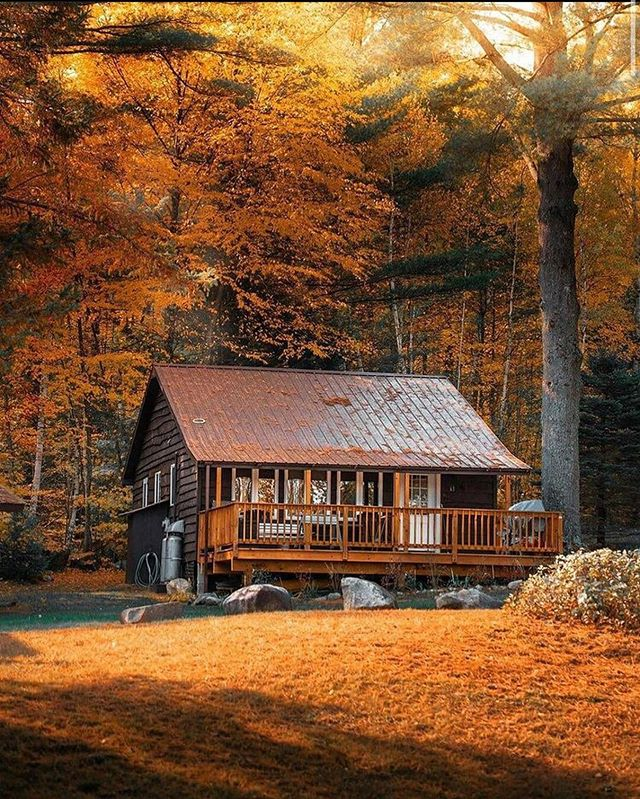building: (132, 365, 549, 607)
grass: (1, 603, 640, 799)
vegetation: (1, 1, 625, 383)
